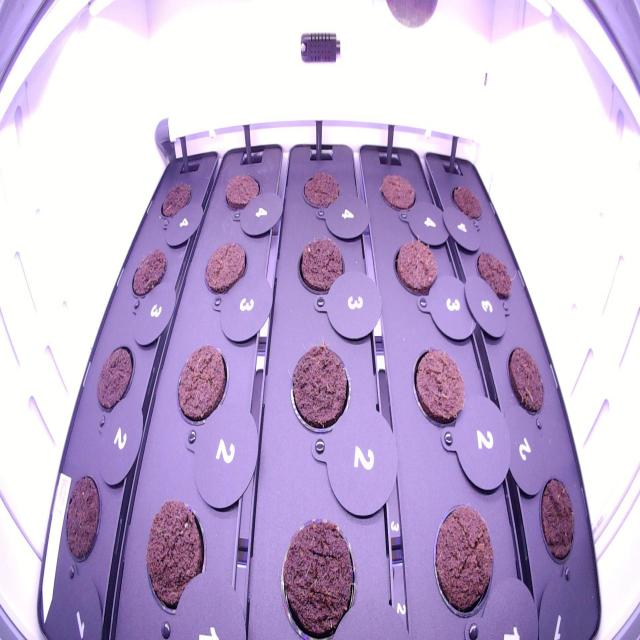pod: (276, 511, 364, 637), (426, 491, 499, 627), (143, 494, 210, 616), (287, 337, 352, 433), (406, 338, 470, 432), (172, 334, 230, 430), (60, 465, 103, 568), (388, 231, 443, 304), (538, 473, 578, 571), (92, 339, 136, 417), (296, 231, 347, 298), (506, 339, 546, 420), (202, 238, 250, 298), (476, 240, 516, 308), (128, 244, 166, 306), (222, 166, 262, 219), (374, 168, 418, 214), (300, 164, 342, 212), (448, 177, 486, 229), (156, 175, 192, 228)
